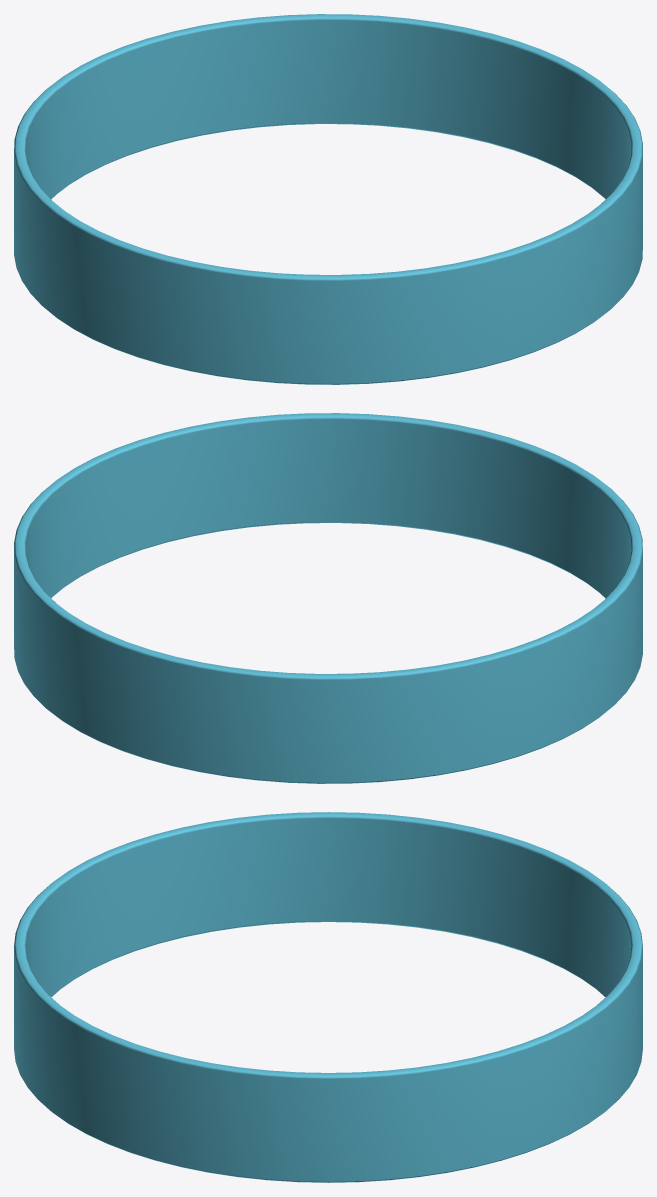
The picture shows the model from 3 angles, top to bottom: view 1: azimuth 30°, elevation 25°; view 2: azimuth 150°, elevation 25°; view 3: azimuth 270°, elevation 25°; orthographic projection.
Visible parts, largest first — view 1: seal_body; view 2: seal_body; view 3: seal_body.
Boxes of the visible parts, x1=… form: seal_body: x1=14, y1=14, x2=642, y2=384; seal_body: x1=14, y1=413, x2=642, y2=783; seal_body: x1=14, y1=812, x2=642, y2=1182.
Size of the model in its own units: 0.1333 by 0.025 by 0.1333.
